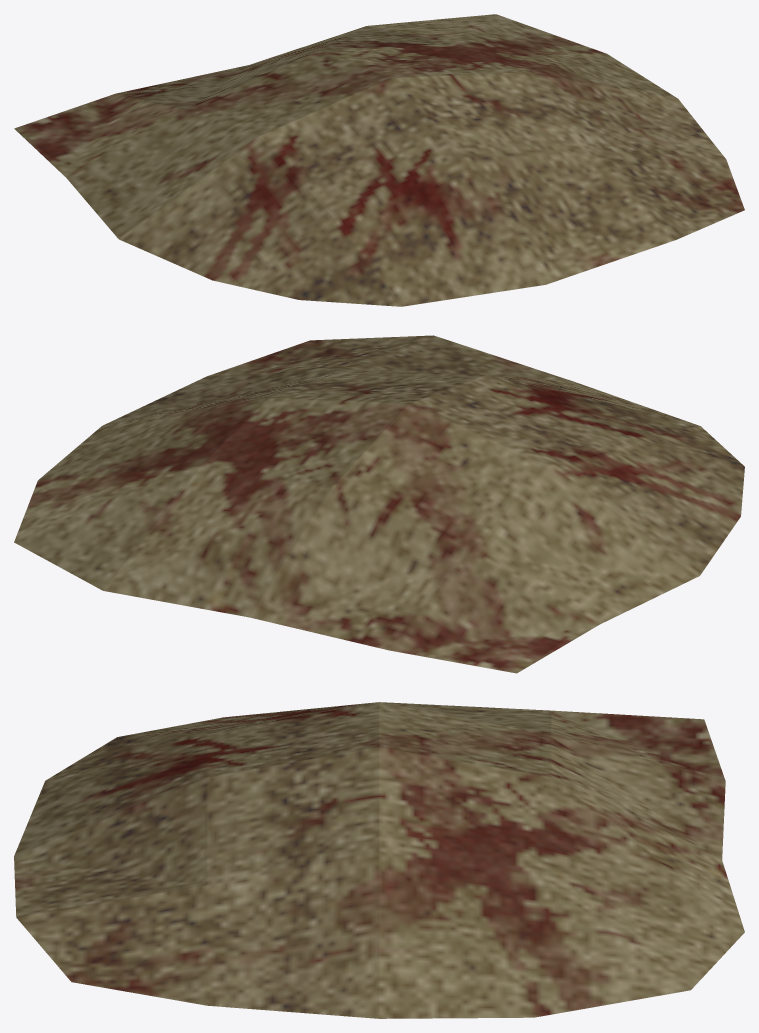
File: SM_EC_Horror_Hay_Patch_0.fbx
The picture shows the model from 3 angles, top to bottom: view 1: azimuth 30°, elevation 25°; view 2: azimuth 150°, elevation 25°; view 3: azimuth 270°, elevation 25°; orthographic projection. The views are drawn at different scales.
Parts seen in each view (by area): view 1: SM_EC_Horror_Hay_Patch_0; view 2: SM_EC_Horror_Hay_Patch_0; view 3: SM_EC_Horror_Hay_Patch_0.
Part boxes in pixels (<box>): SM_EC_Horror_Hay_Patch_0: <box>14,14,744,306</box>; SM_EC_Horror_Hay_Patch_0: <box>14,335,744,673</box>; SM_EC_Horror_Hay_Patch_0: <box>14,702,744,1018</box>.
Size of the model in its own units: 2.04 by 1.96 by 0.3289.
